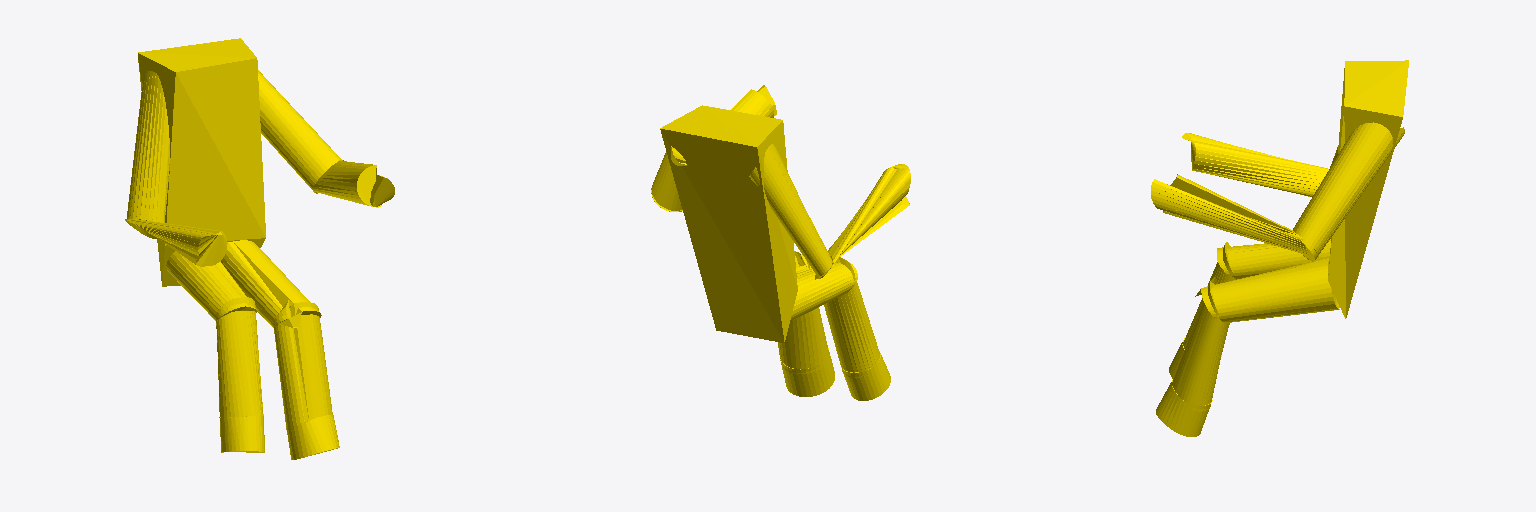
File: person-headless.obj
3 renders of one model, left to right at view 1: azimuth 30°, elevation 25°; view 2: azimuth 150°, elevation 25°; view 3: azimuth 270°, elevation 25°, orthographic.
Parts seen in each view (by area): view 1: Player_Poppy_Playtime; view 2: Player_Poppy_Playtime; view 3: Player_Poppy_Playtime.
Part boxes in pixels (x1,y1,x2,y2): Player_Poppy_Playtime: (125, 38, 394, 459); Player_Poppy_Playtime: (651, 85, 910, 400); Player_Poppy_Playtime: (1151, 60, 1408, 436).
Size of the model in its own units: 2.03 by 3.28 by 2.24.